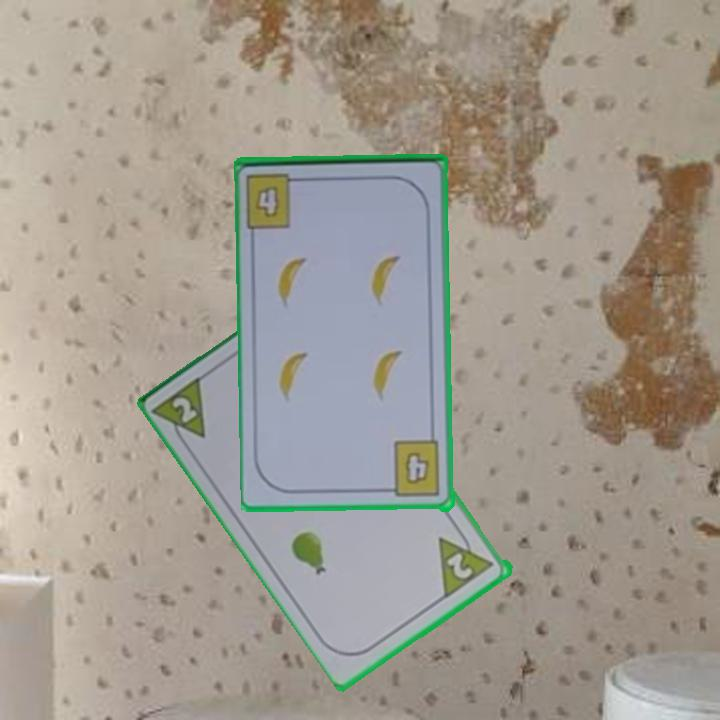2p: (443, 549, 477, 583), (169, 393, 201, 426)
4b: (381, 438, 443, 500), (252, 186, 283, 221)
